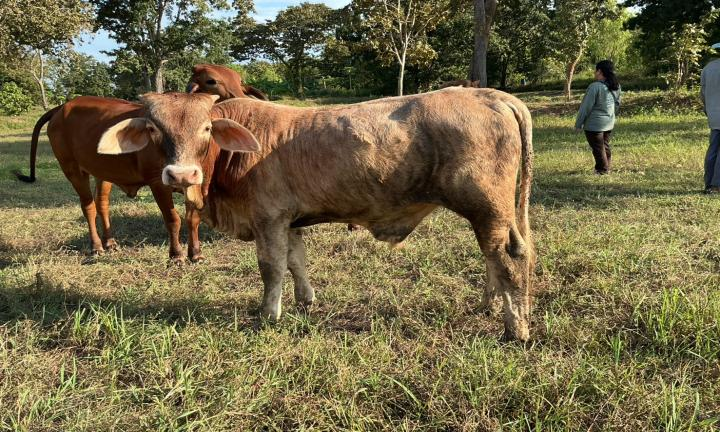Charolais: (99, 87, 534, 340)
